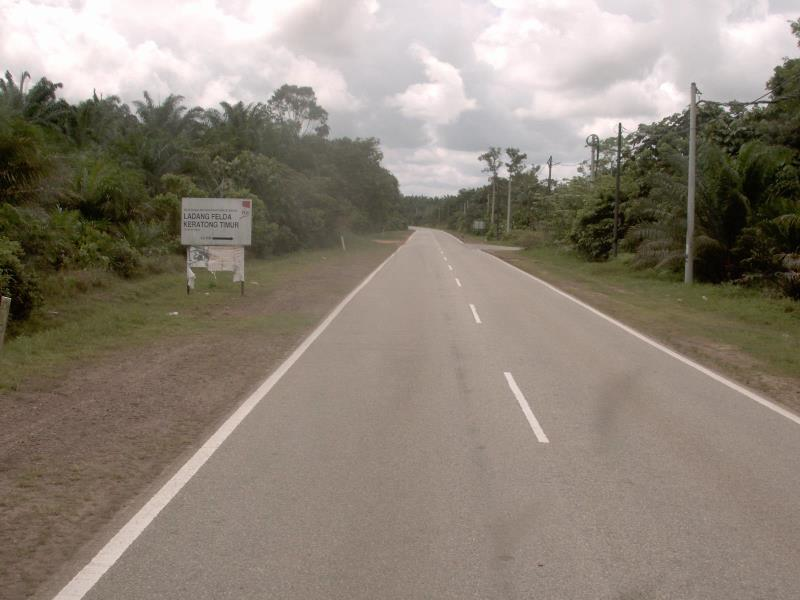ads_sign: (169, 189, 260, 257)
